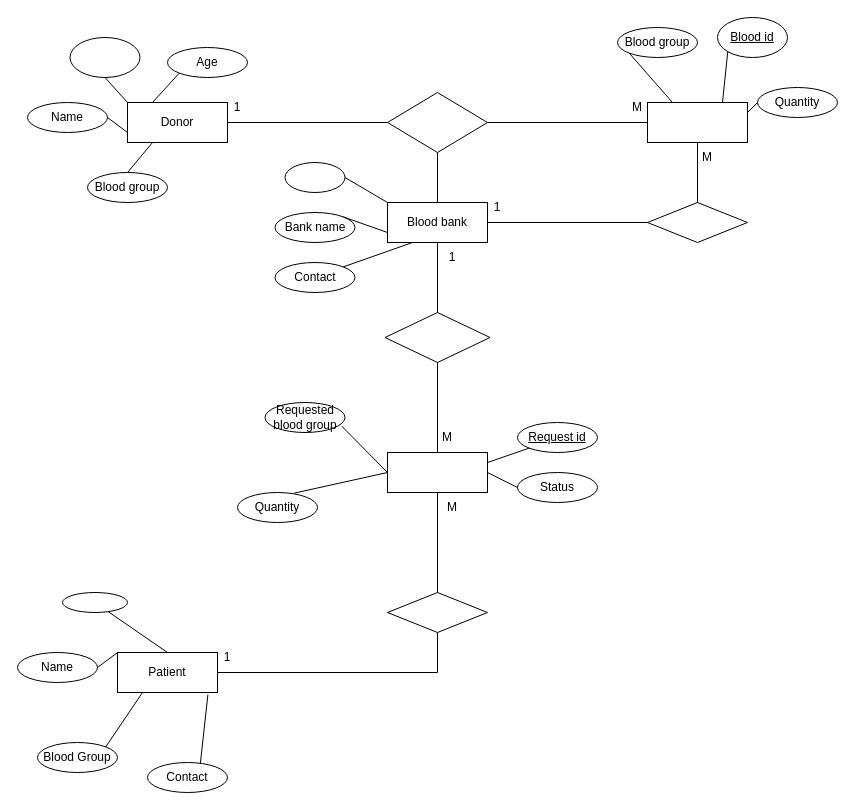
The diagram is 855 pixels wide and 810 high, and some of its shapes have lost their labels. The centre of each missing label's shape, as x and y in pixels:
"Bank id" belongs at (x=314, y=177).
"Blood" belongs at (x=697, y=122).
"Collects" belongs at (x=697, y=222).
"Donates" belongs at (x=437, y=122).
"Donor id" belongs at (x=104, y=57).
"Patient id" belongs at (x=95, y=602).
"Proccesses" belongs at (x=437, y=337).
"Request" belongs at (x=437, y=472).
"Requests" belongs at (x=437, y=612).
